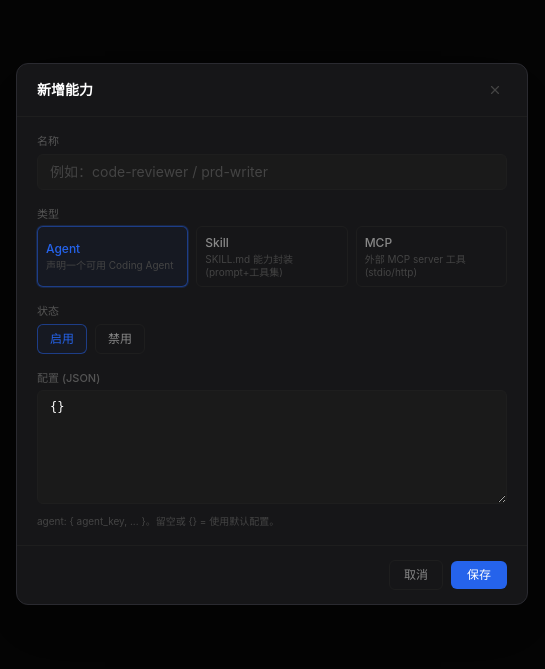
Test: CapabilityEditorModal — C3 skill 多来源 › switches skill source to inline and shows content textarea
Click the text "Skill": (217, 242) 205,235 -> 229,250
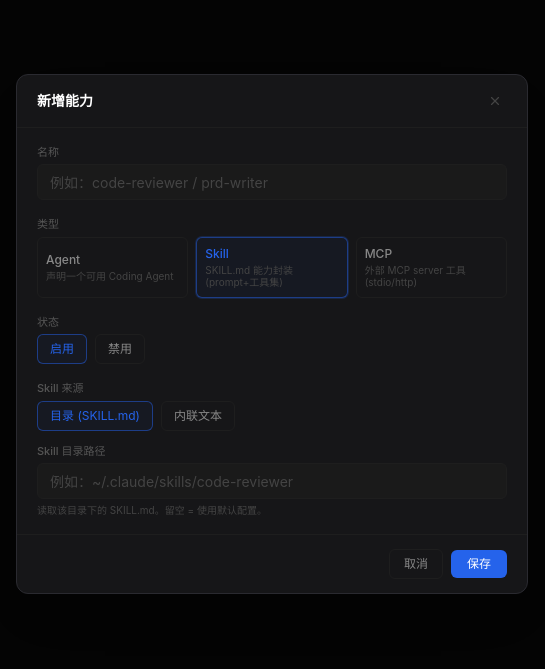
// 默认 directory, 切 inline
Click the button "内联文本": (198, 416) 161,401 -> 235,431
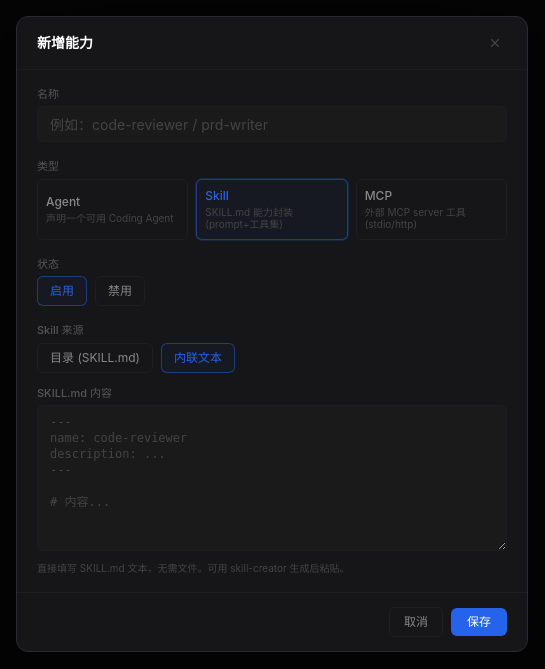
expect the field with placeholder "例如：~/.claude/skills/code-reviewer" is not shown: met
expect the text box with placeholder "--- name: code-reviewer description: ... --- # 内容..." is shown: met, box 37,405 -> 507,551
